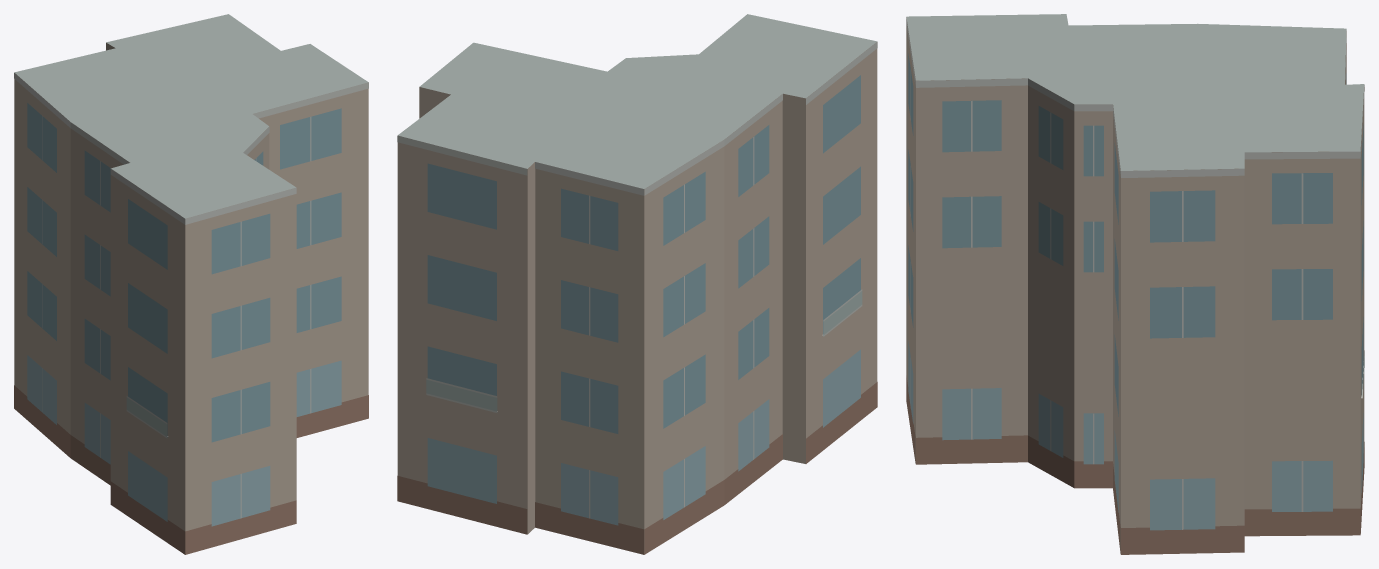
File: survey-upis-32472344.glb
3 views of the same model, side by side, from view 1: azimuth 30°, elevation 25°; view 2: azimuth 150°, elevation 25°; view 3: azimuth 270°, elevation 25° (orthographic). The views are drawn at different scales.
Visible parts, largest first — view 1: survey-upis-32472344.tmp; view 2: survey-upis-32472344.tmp; view 3: survey-upis-32472344.tmp.
Boxes of the visible parts, <box> form: survey-upis-32472344.tmp: <box>14,14,368,554</box>; survey-upis-32472344.tmp: <box>397,14,877,554</box>; survey-upis-32472344.tmp: <box>906,14,1364,554</box>.
Size of the model in its own units: 11.55 by 13.15 by 14.24.
